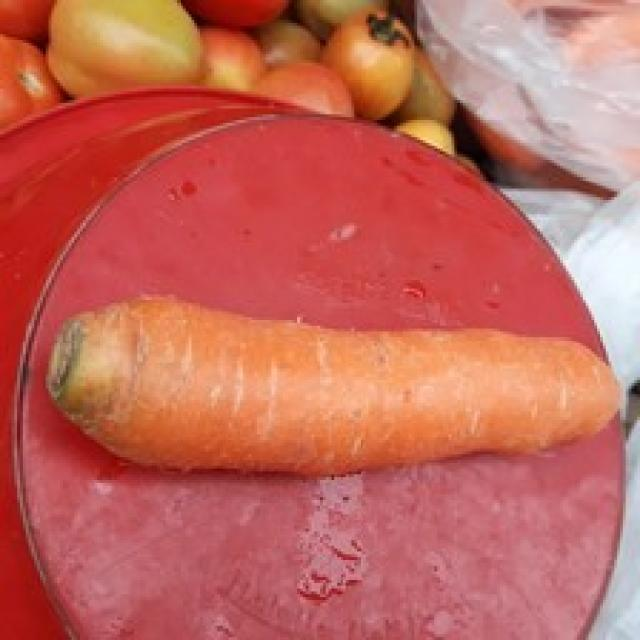Fresh_Carrot: (57, 307, 622, 475)
